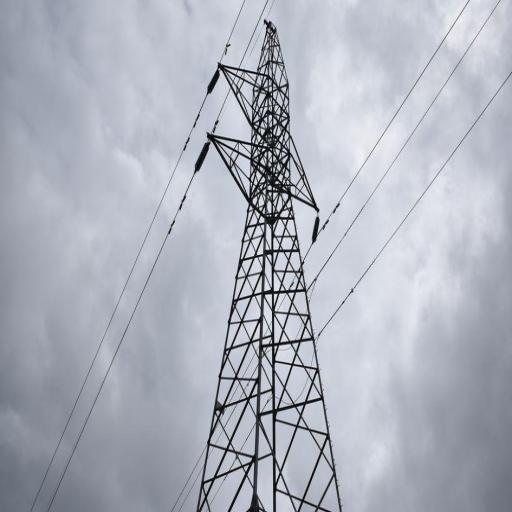ss_4: (200, 15, 345, 511)
